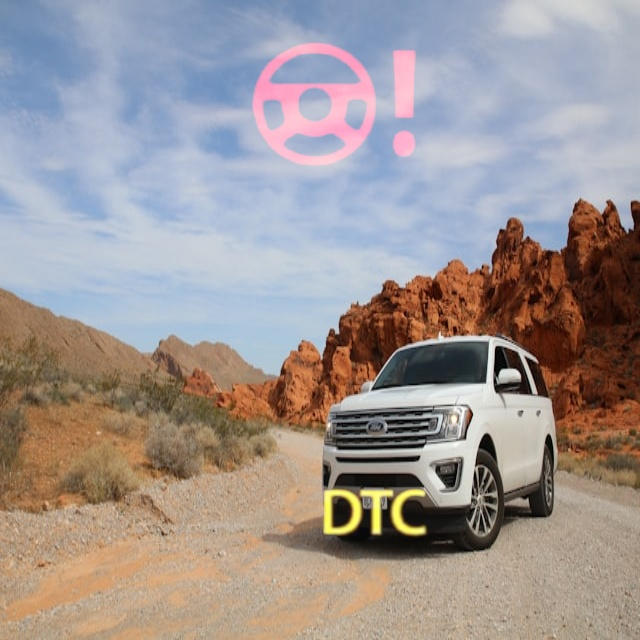symbol: (236, 7, 434, 205), (295, 434, 454, 593)
